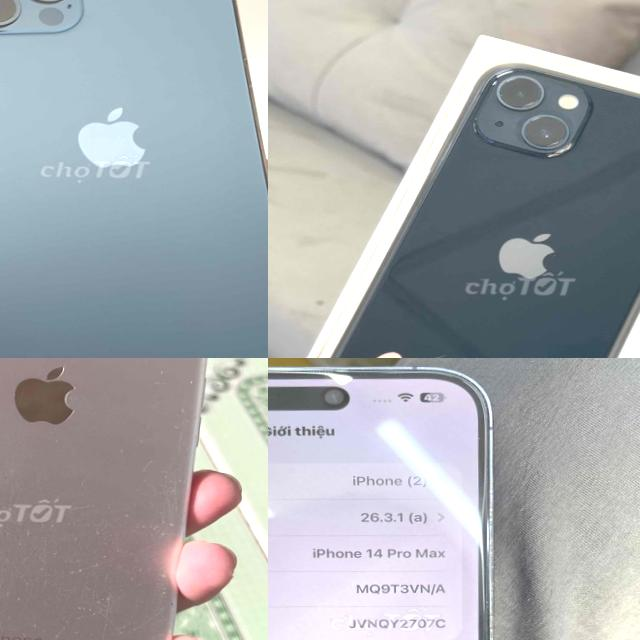gen_12_13: (315, 62, 640, 358), (0, 0, 268, 358)
gen_14: (268, 358, 512, 640)
gen_6: (0, 358, 230, 640)
scratch: (0, 539, 145, 640), (120, 452, 181, 566), (112, 358, 185, 438), (398, 352, 457, 358)
